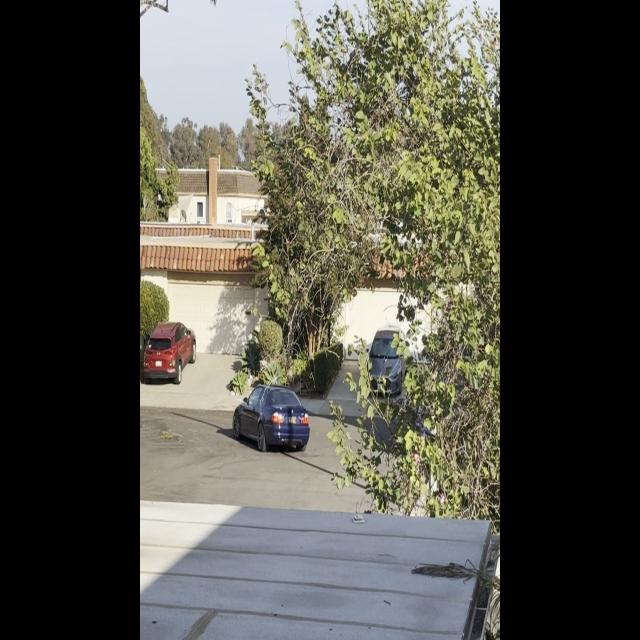Carbeetle: (232, 378, 313, 460)
Civilian: (140, 318, 199, 383), (363, 320, 409, 403)
